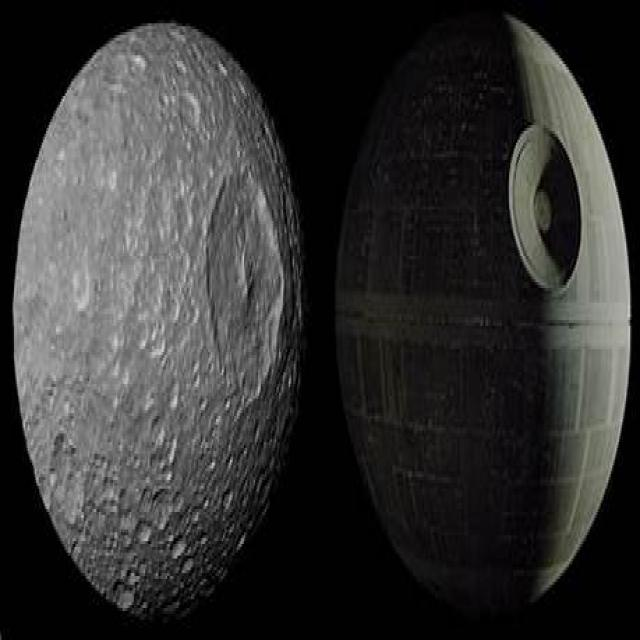deathStar: (332, 15, 630, 606)
